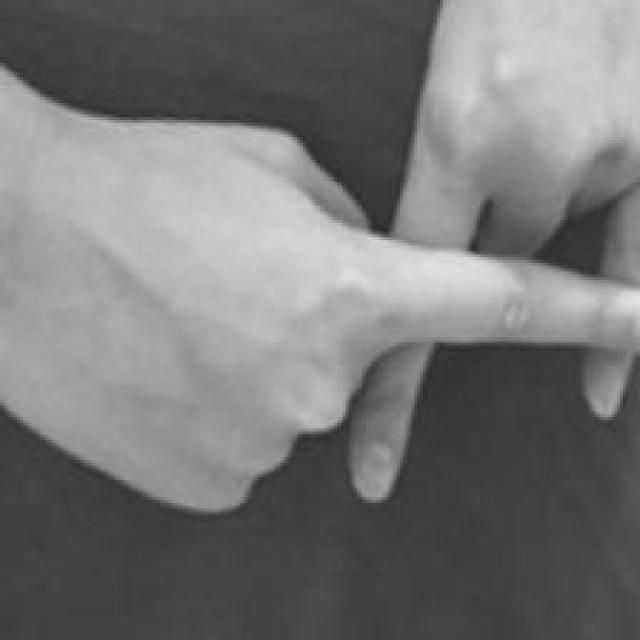H: (0, 0, 637, 517)
